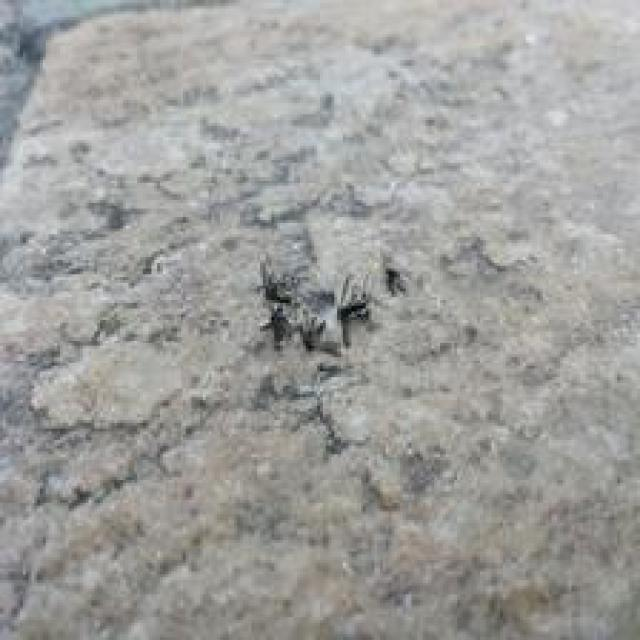Aedes albopictus: (253, 215, 407, 358)
